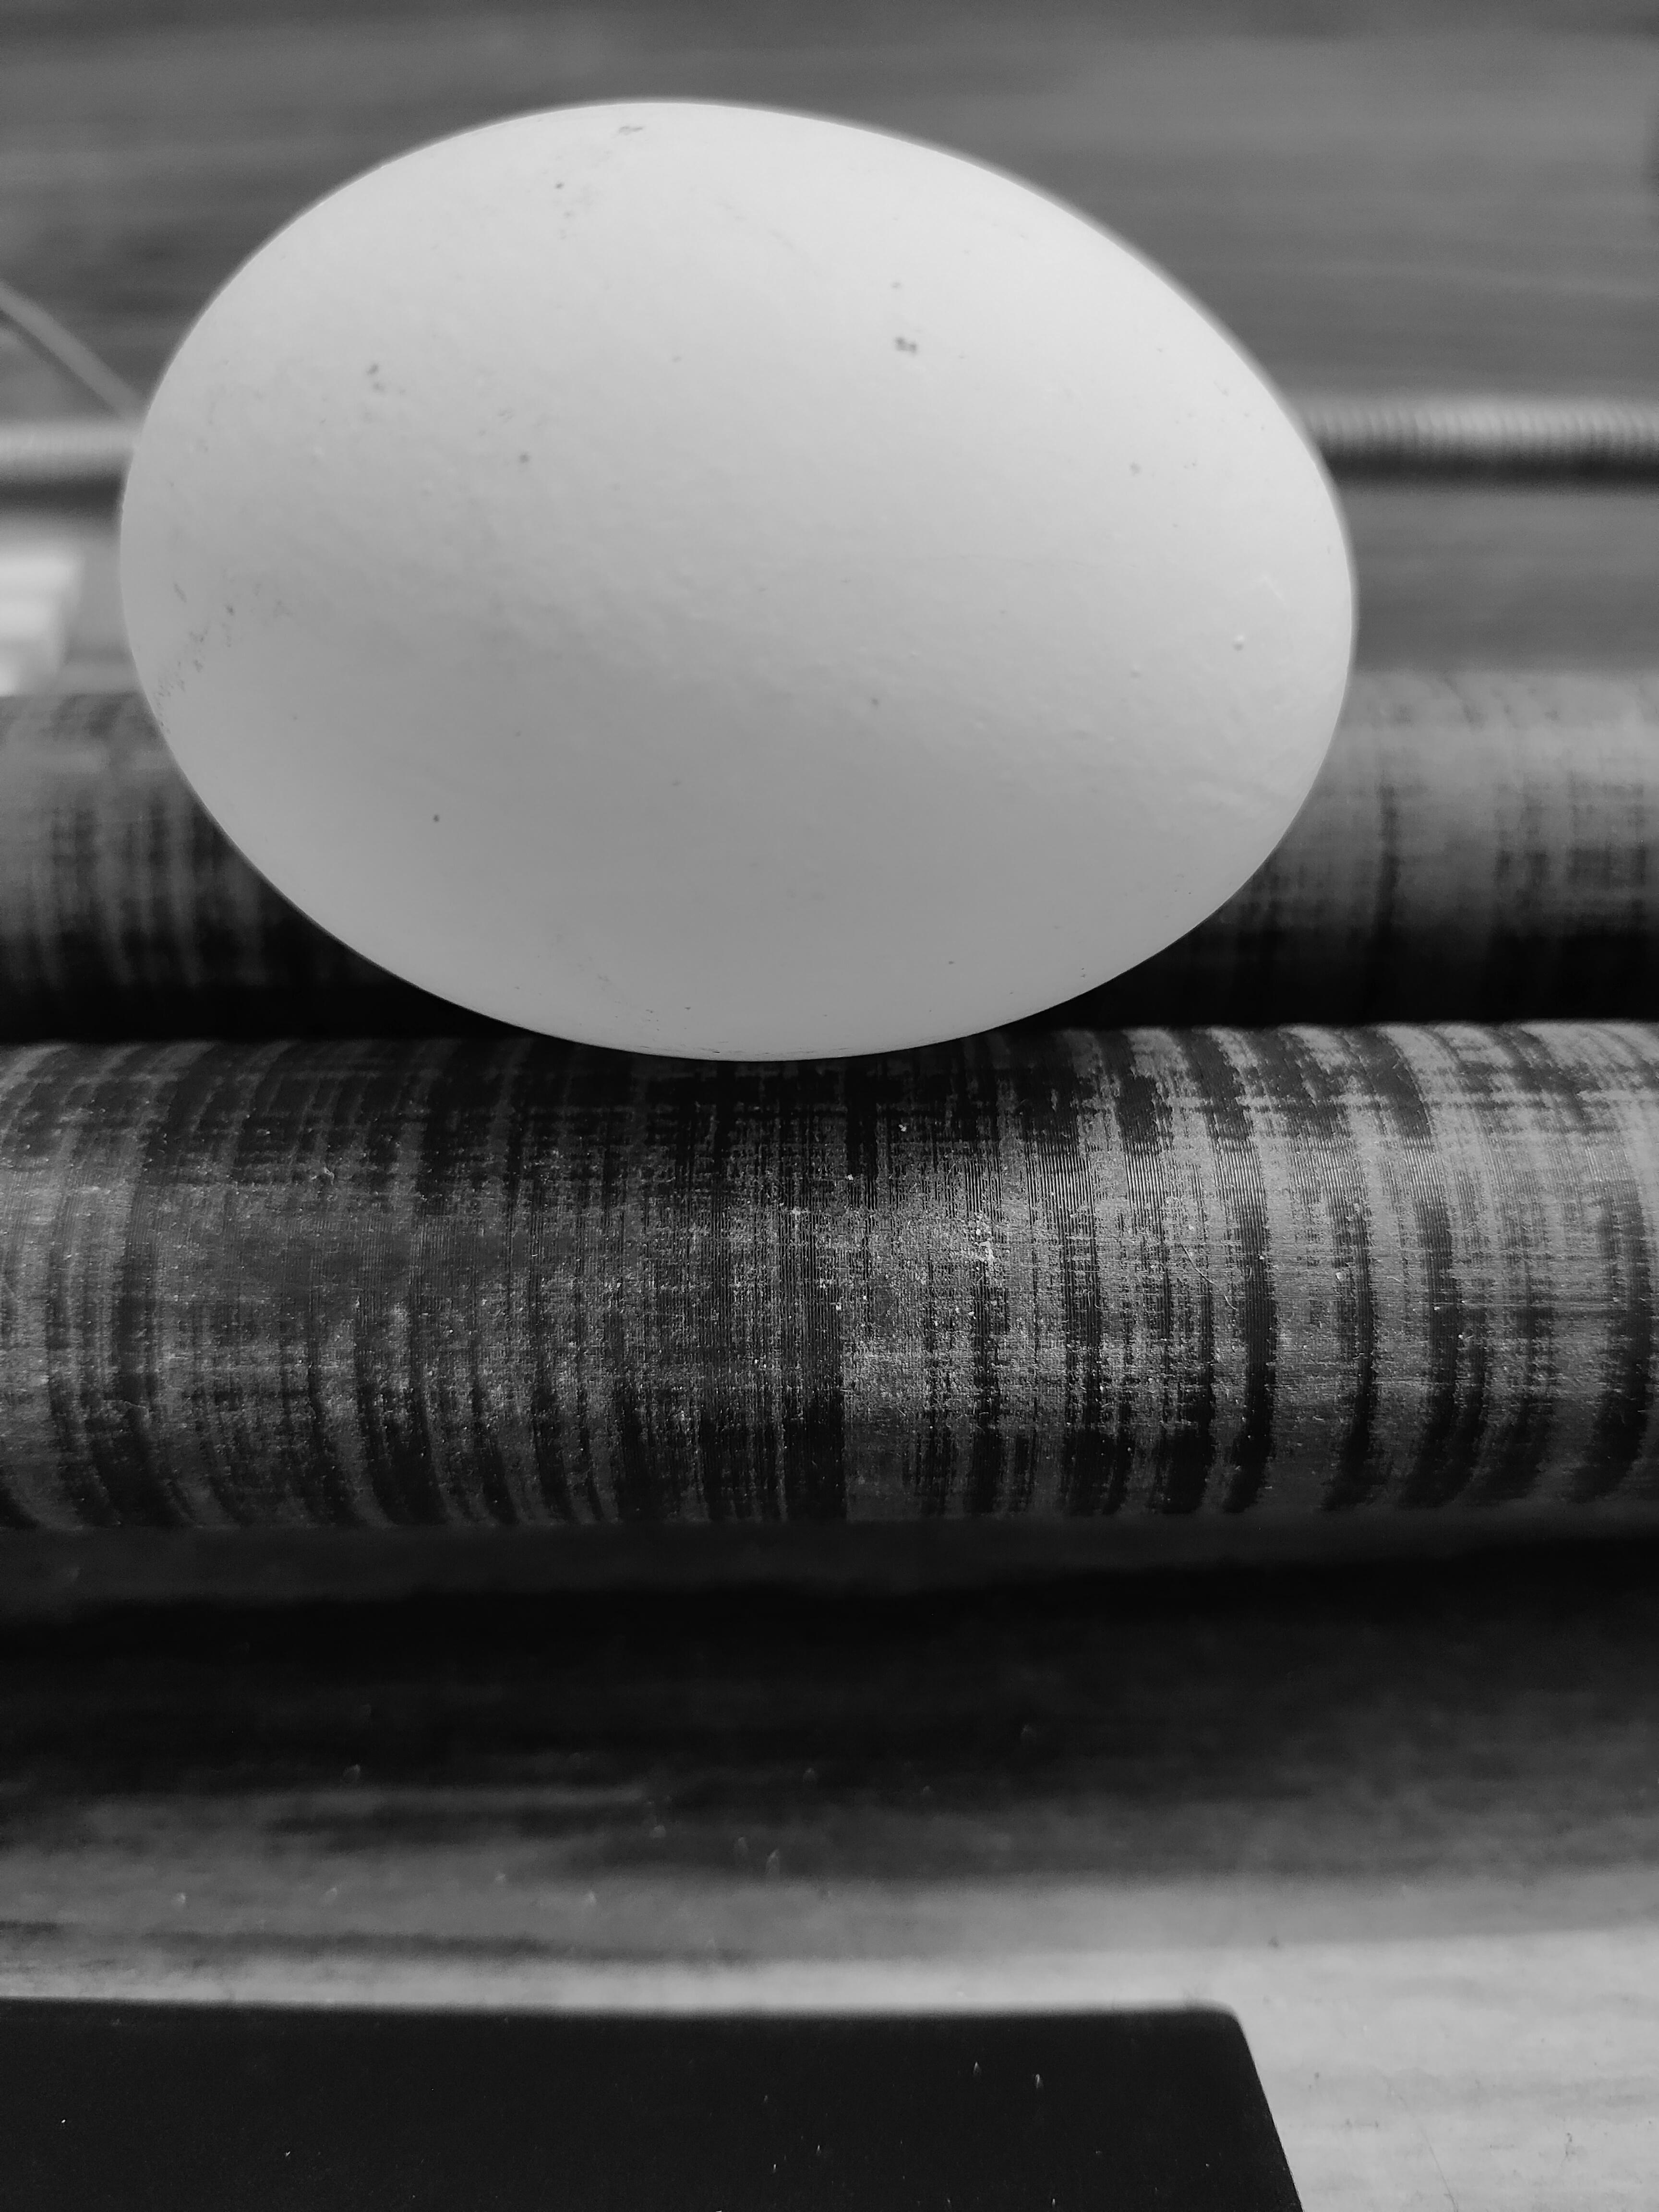telur: (77, 73, 1385, 1083)
